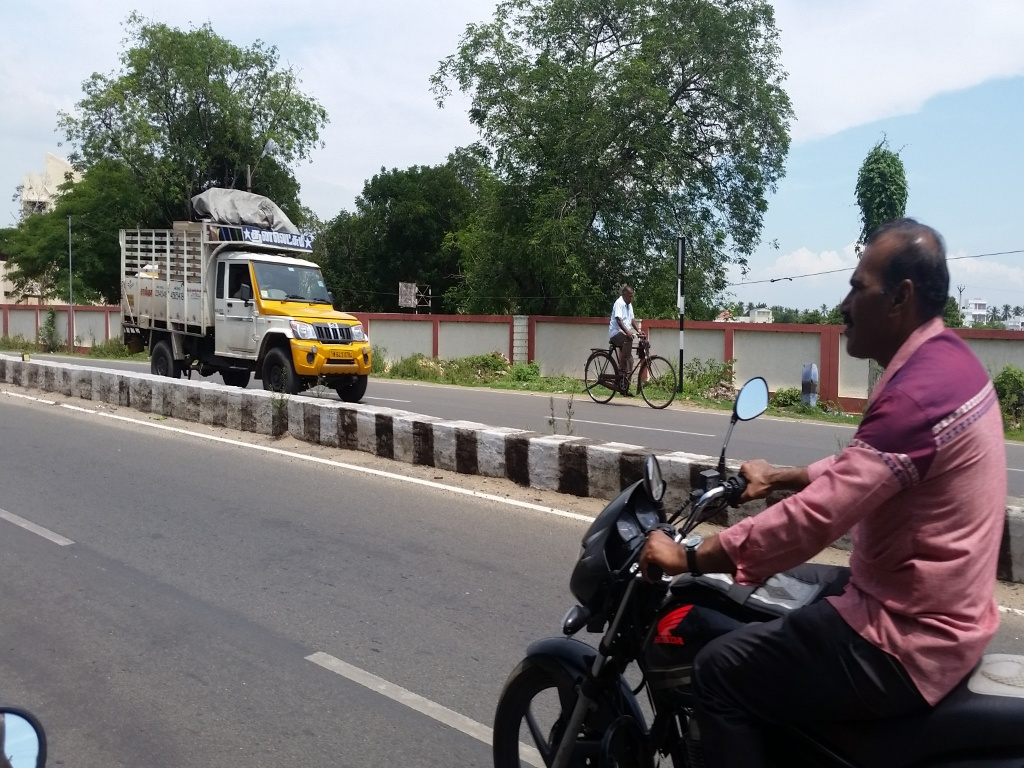biker: (481, 179, 1022, 768)
nohelmet: (833, 201, 972, 382)
